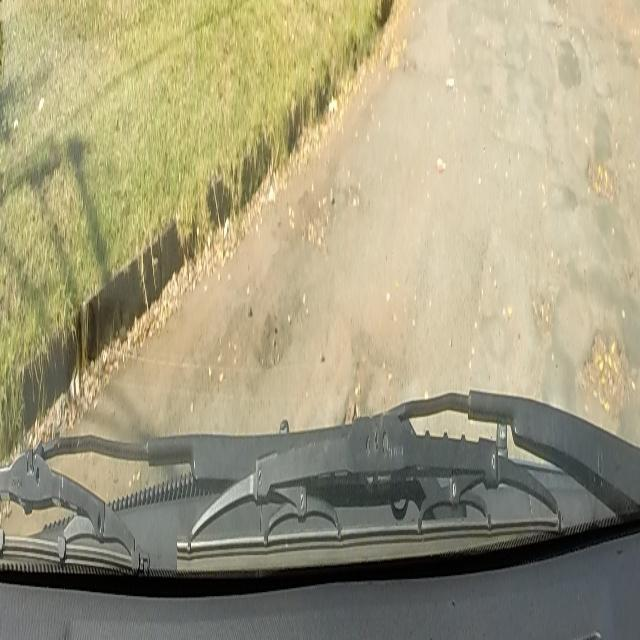pothole: (584, 313, 622, 425), (254, 308, 288, 374), (586, 152, 615, 196), (383, 40, 402, 72)
